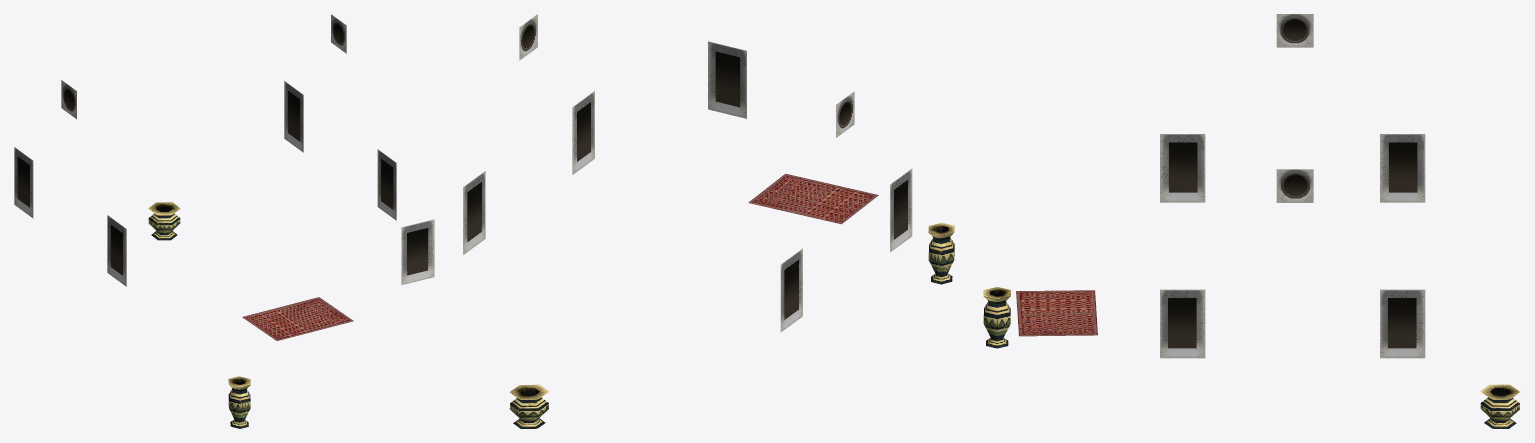
File: kart_house_b_1.dae
3 renders of one model, left to right at view 1: azimuth 30°, elevation 25°; view 2: azimuth 150°, elevation 25°; view 3: azimuth 270°, elevation 25°, orthographic. The views are drawn at different scales.
Visible parts, largest first — view 1: Object13-Pivot; view 2: Object13-Pivot; view 3: Object13-Pivot.
Boxes of the visible parts, x1,y1,x2,y2 form: Object13-Pivot: (14,14,434,428); Object13-Pivot: (463,14,954,428); Object13-Pivot: (983,14,1519,428).
Size of the model in its own units: 9.96 by 14.52 by 9.07.
